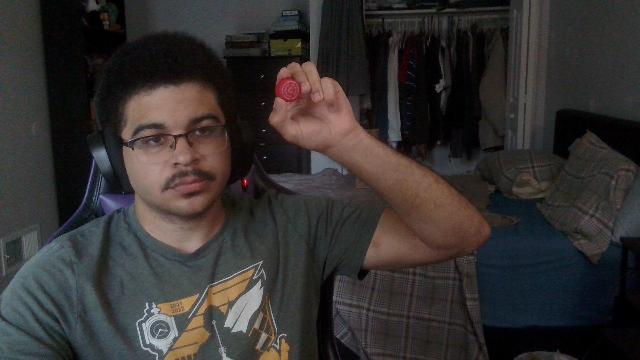cap: (276, 78, 300, 102)
